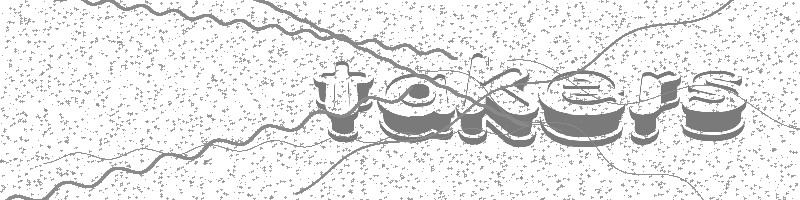a: (377, 72, 456, 144)
e: (537, 68, 626, 150)
k: (456, 46, 539, 152)
r: (626, 64, 682, 144)
s: (682, 67, 746, 143)
t: (311, 54, 376, 145)
